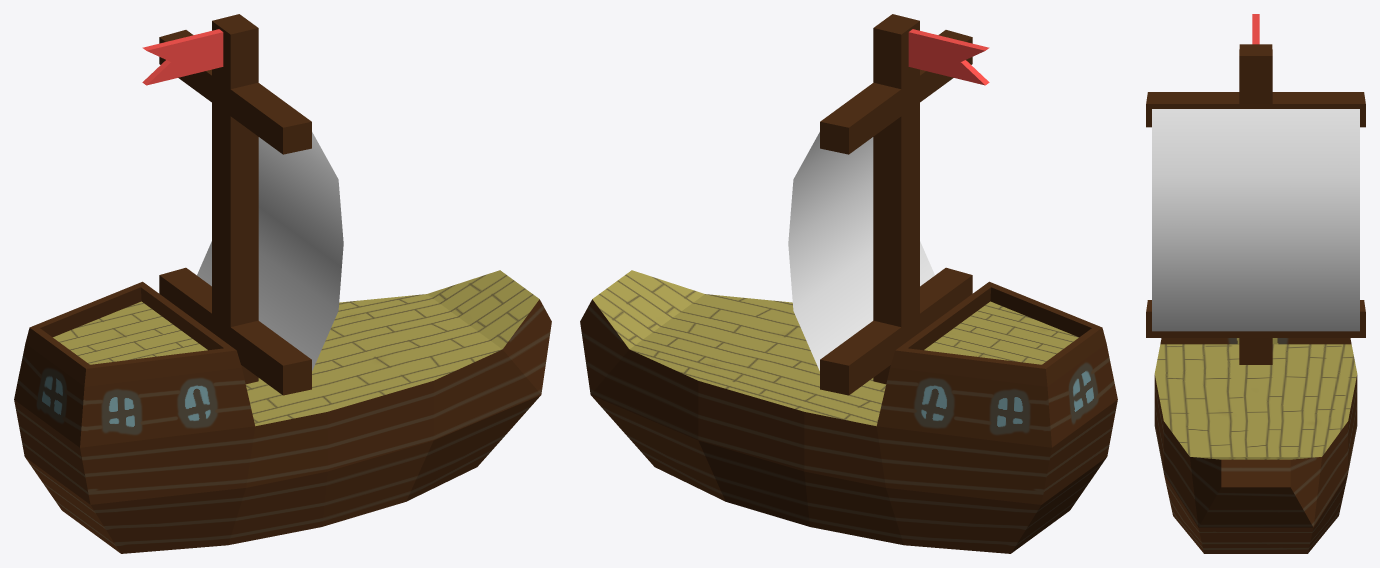
Rendered from ship.glb.
3 views of the same model, side by side, from view 1: azimuth 30°, elevation 25°; view 2: azimuth 150°, elevation 25°; view 3: azimuth 270°, elevation 25° (orthographic). The views are drawn at different scales.
Parts seen in each view (by area): view 1: Cube; view 2: Cube; view 3: Cube.
Part boxes in pixels (left/top/right/bottom): Cube: left=14, top=14, right=551, bottom=553; Cube: left=580, top=14, right=1117, bottom=553; Cube: left=1146, top=14, right=1365, bottom=553.
Size of the model in its own units: 8.5 by 7.92 by 3.82.
Materials: 4 (1 with a texture image).
